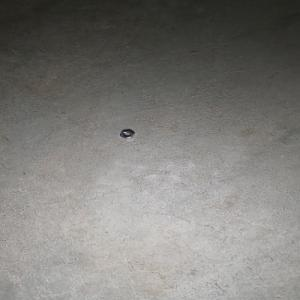Nut: (119, 129, 135, 138)
